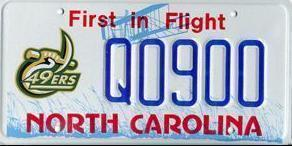placa de veiculo: (3, 0, 292, 146)
